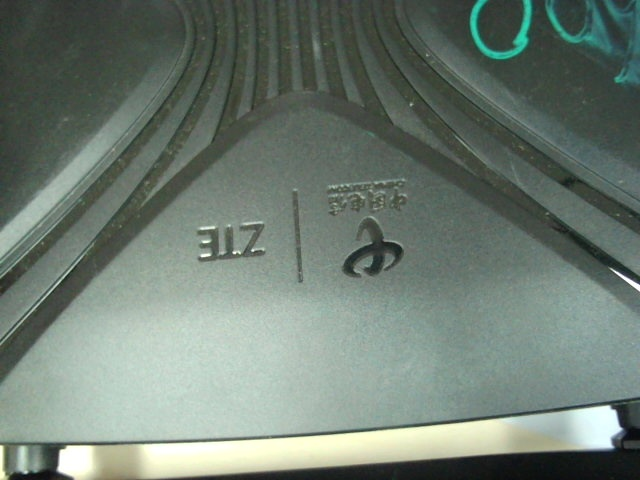AX_ZTEChinaTelecom: (195, 173, 413, 279)
